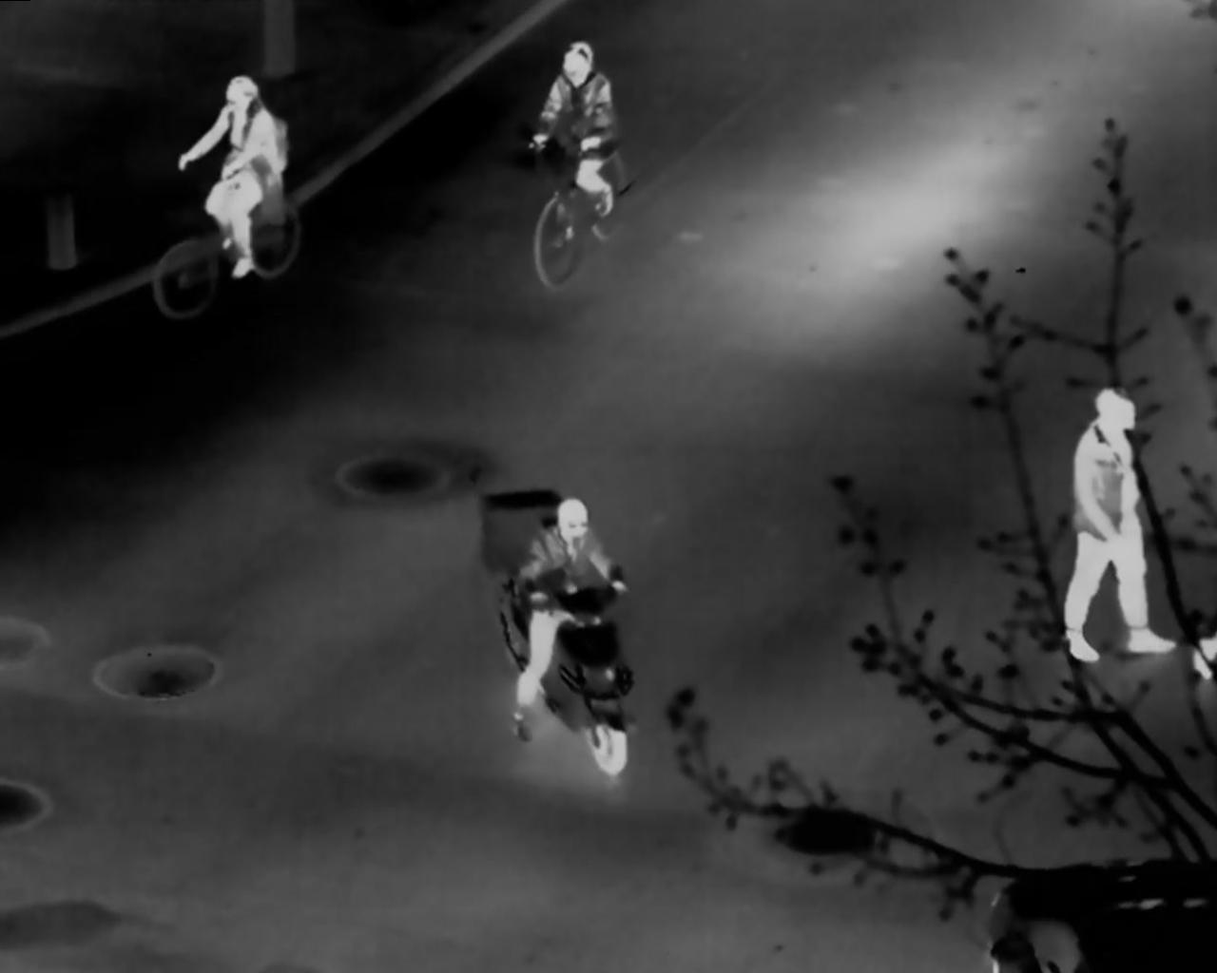person: (1061, 388, 1178, 663), (512, 497, 629, 747), (175, 73, 289, 280), (529, 39, 618, 219)
